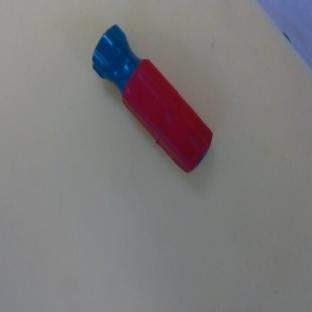part_2_good: (79, 22, 222, 176)
